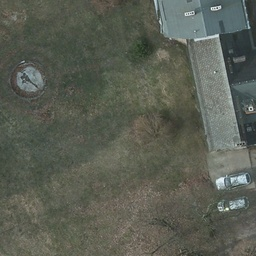car: (215, 172, 252, 193), (218, 195, 251, 213)
